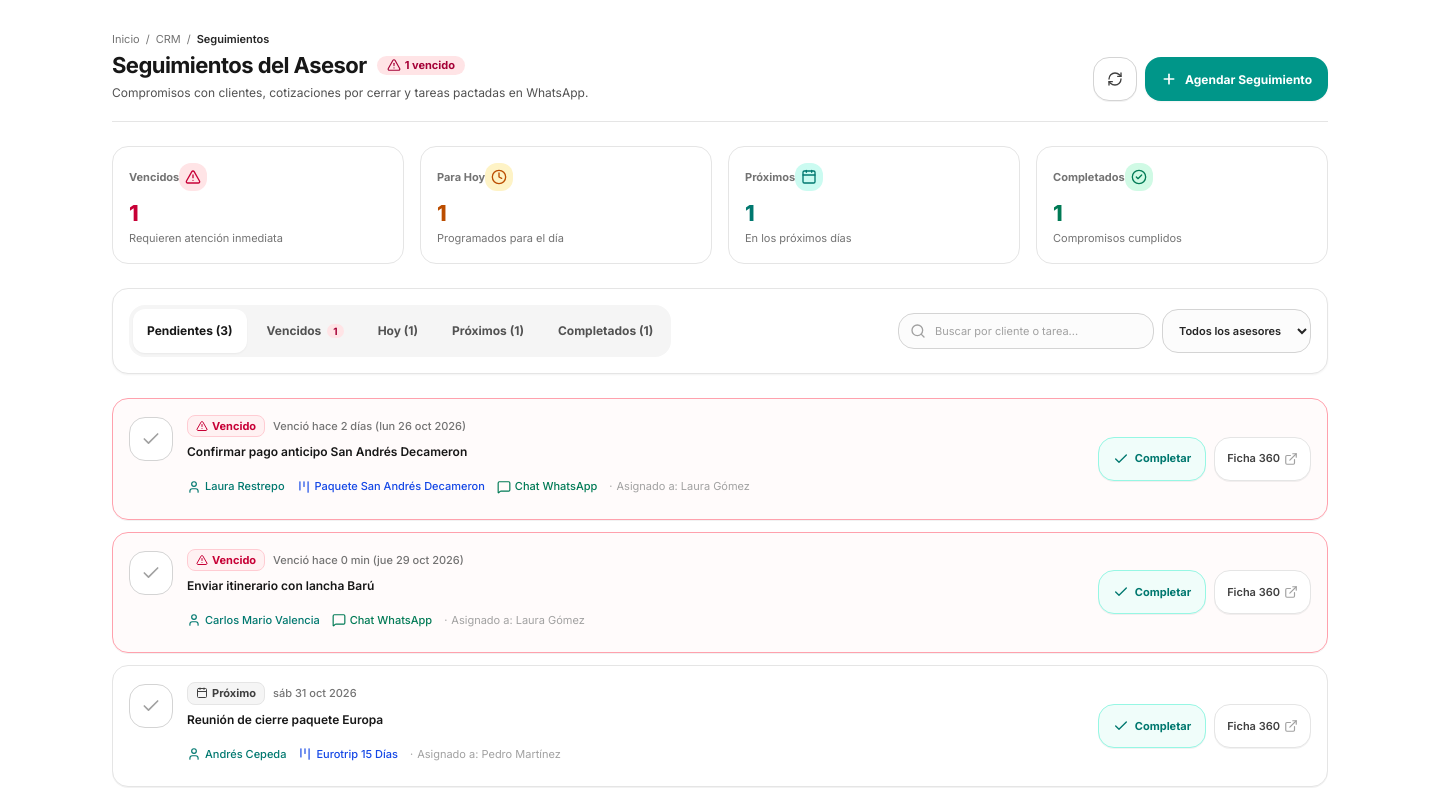
SeguimientosPage (T-101) › 4. Filtra por la pestaña Completados mostrando tareas finalizadas
This screenshot has width=1440, height=810.
Check: the heading "Confirmar pago anticipo San Andrés Decameron" is shown, box 187,444 -> 467,460
Clic en tab Completados
Click the button with test id "tab-completados": (606, 331) 544,309 -> 667,353
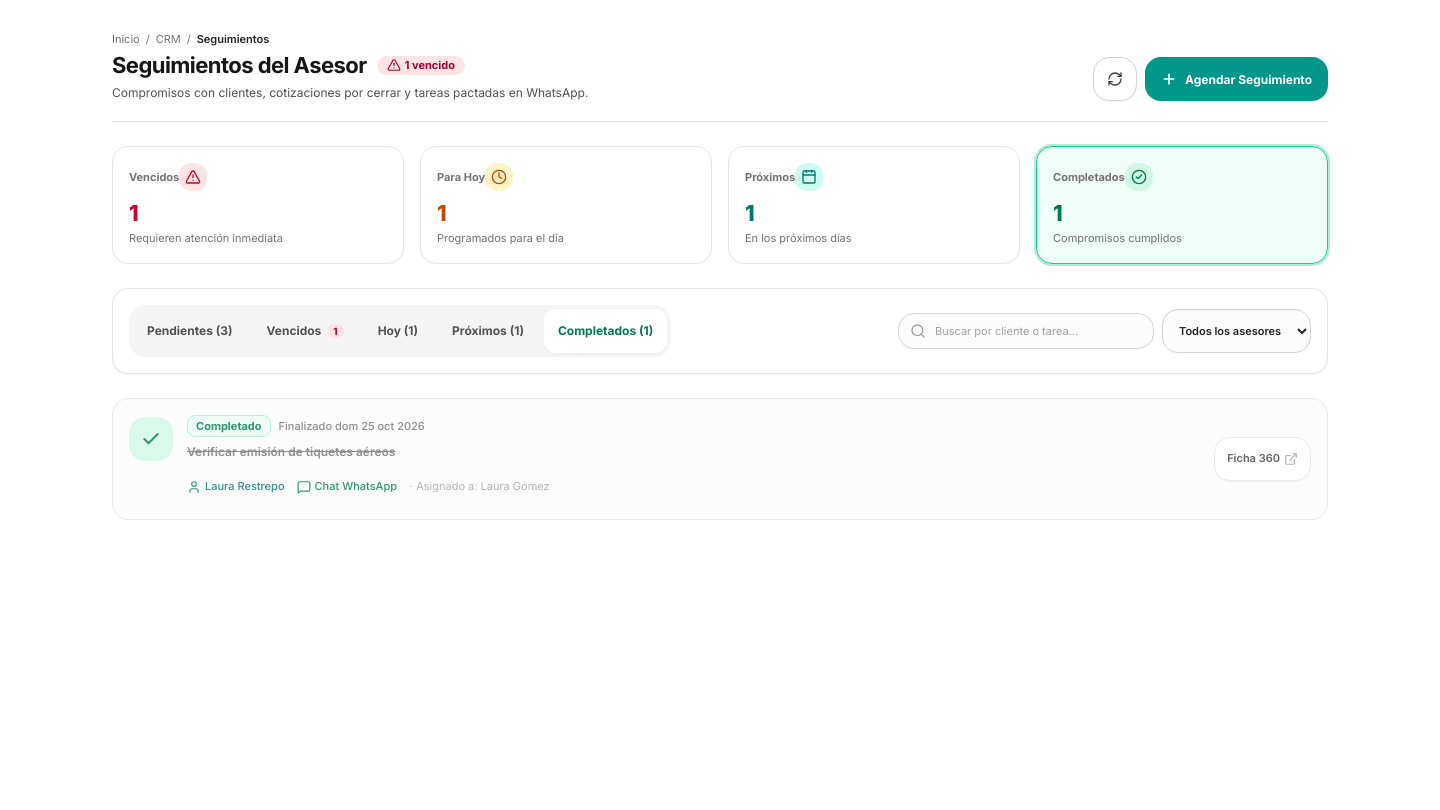
Check: the heading "Verificar emisión de tiquetes aéreos" is shown, box 187,444 -> 396,460
Check: the heading "Confirmar pago anticipo San Andrés Decameron" is gone
